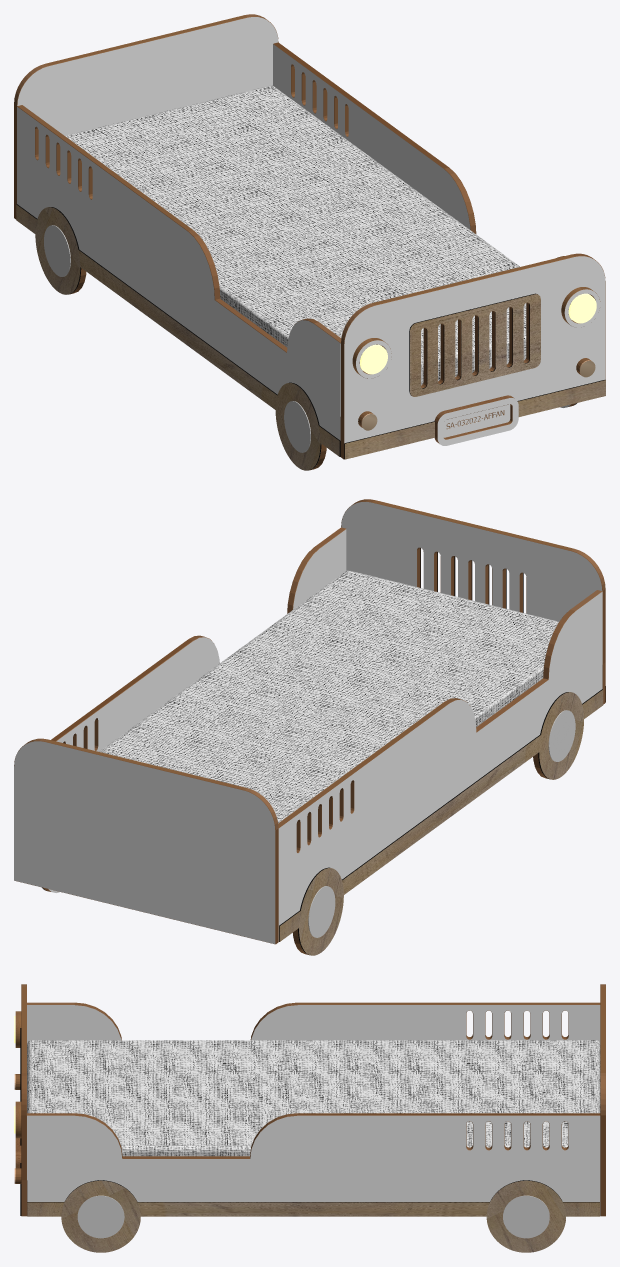
The model's file is BedVersions.glb.
The picture shows the model from 3 angles, top to bottom: view 1: azimuth 30°, elevation 25°; view 2: azimuth 150°, elevation 25°; view 3: azimuth 270°, elevation 25°; orthographic projection. The views are drawn at different scales.
Visible parts, largest first — view 1: Bed4.001; view 2: Bed4.001; view 3: Bed4.001.
Boxes of the visible parts, x1,y1,x2,y2 form: Bed4.001: (14,14,605,470); Bed4.001: (14,499,605,955); Bed4.001: (14,984,605,1252).
Size of the model in its own units: 0.8508 by 0.575 by 1.86.
14 materials, 7 textured.
